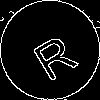R: (25, 25, 80, 83)
